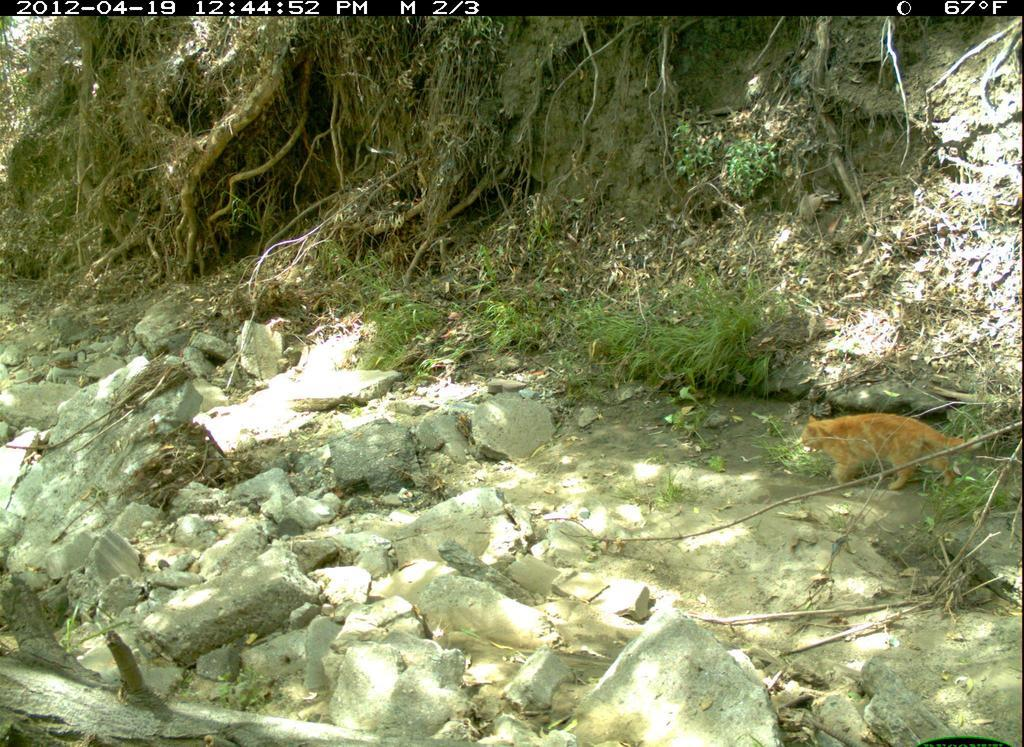cat: (800, 413, 984, 495)
